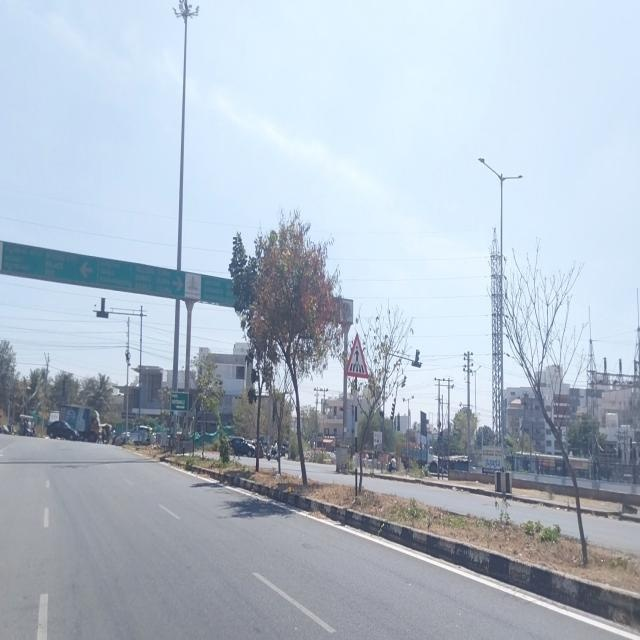bien_nguy_hiem: (345, 333, 369, 377)
